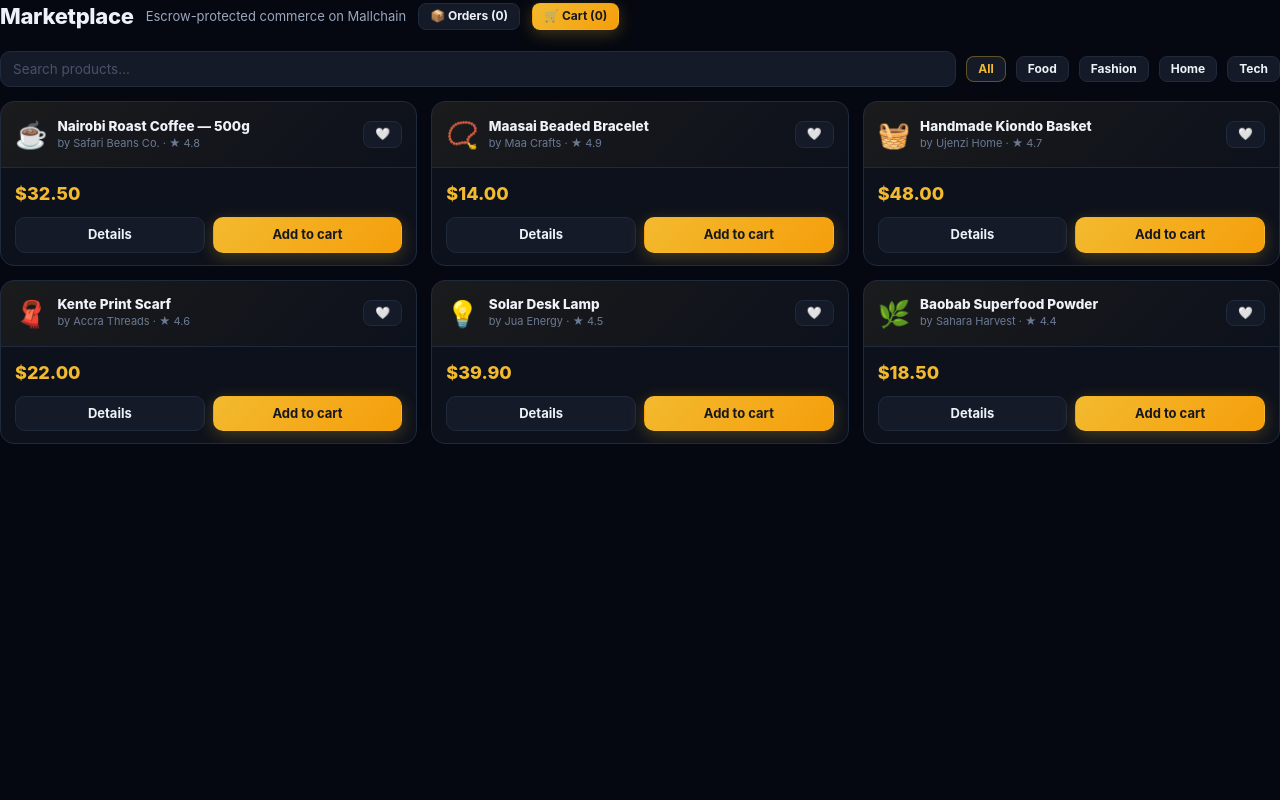
Test: Marketplace checkout › adding a product and checking out builds and broadcasts a real MsgCreateEscrow, not a local simulation
Step 1. Click the button "Add to cart" below "$32.50" → (308, 235), box [213,217,402,253]
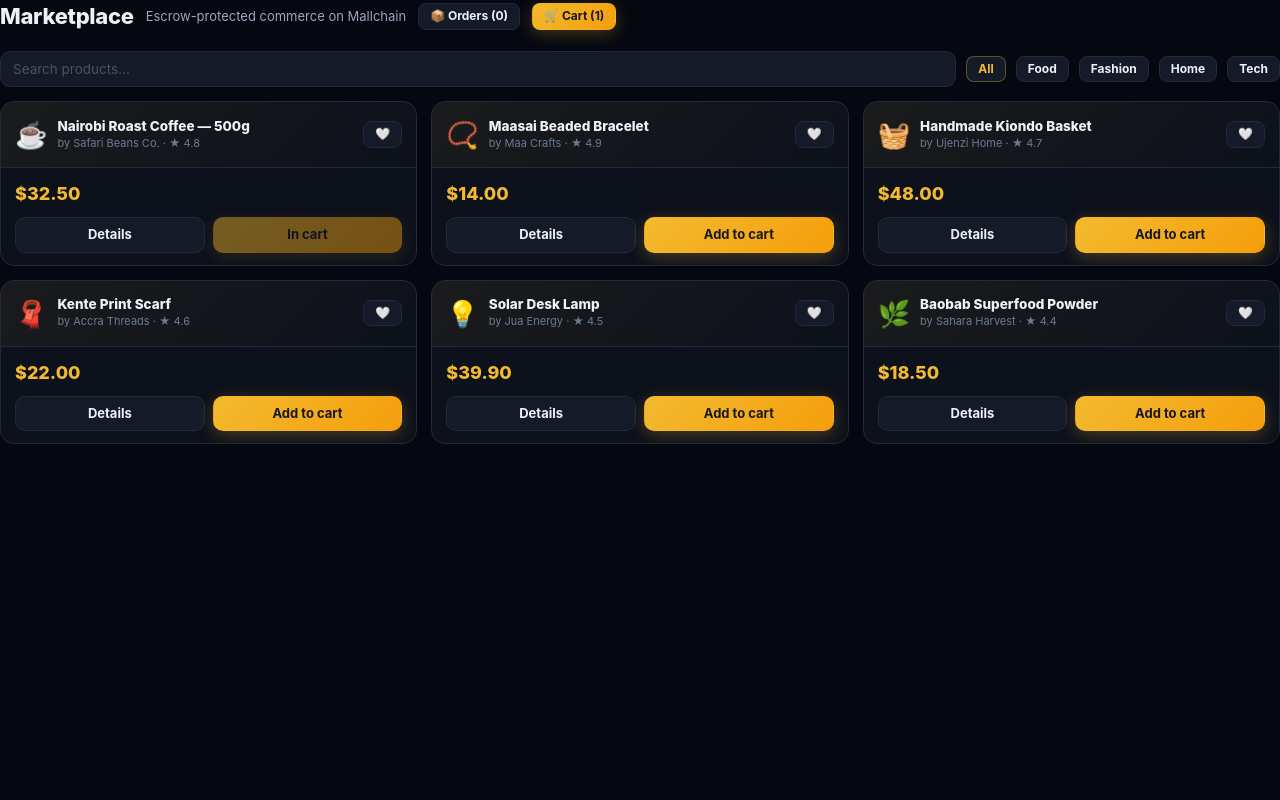
Step 2. Click the button "🛒 Cart (1)" → (574, 16), box [532,3,616,30]
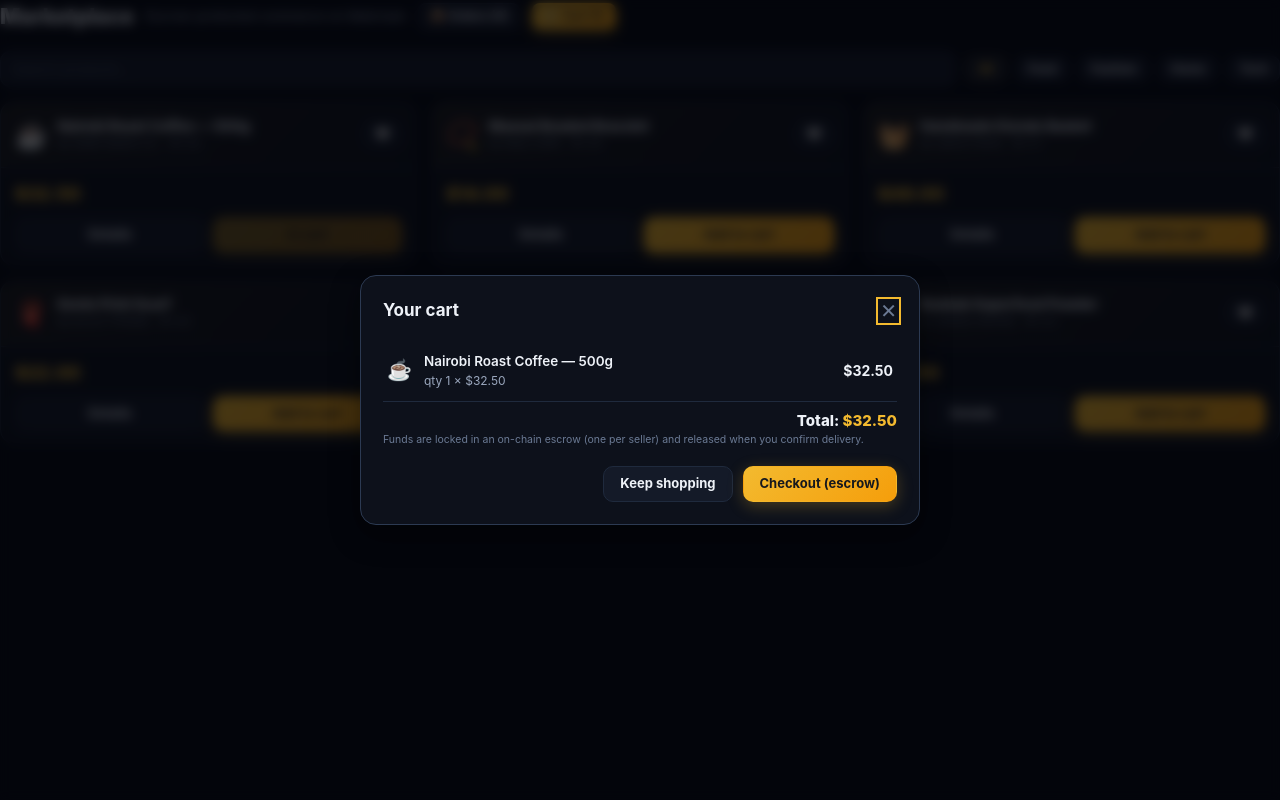
Step 3. Click the button "Checkout (escrow)" → (820, 484), box [742,466,897,502]
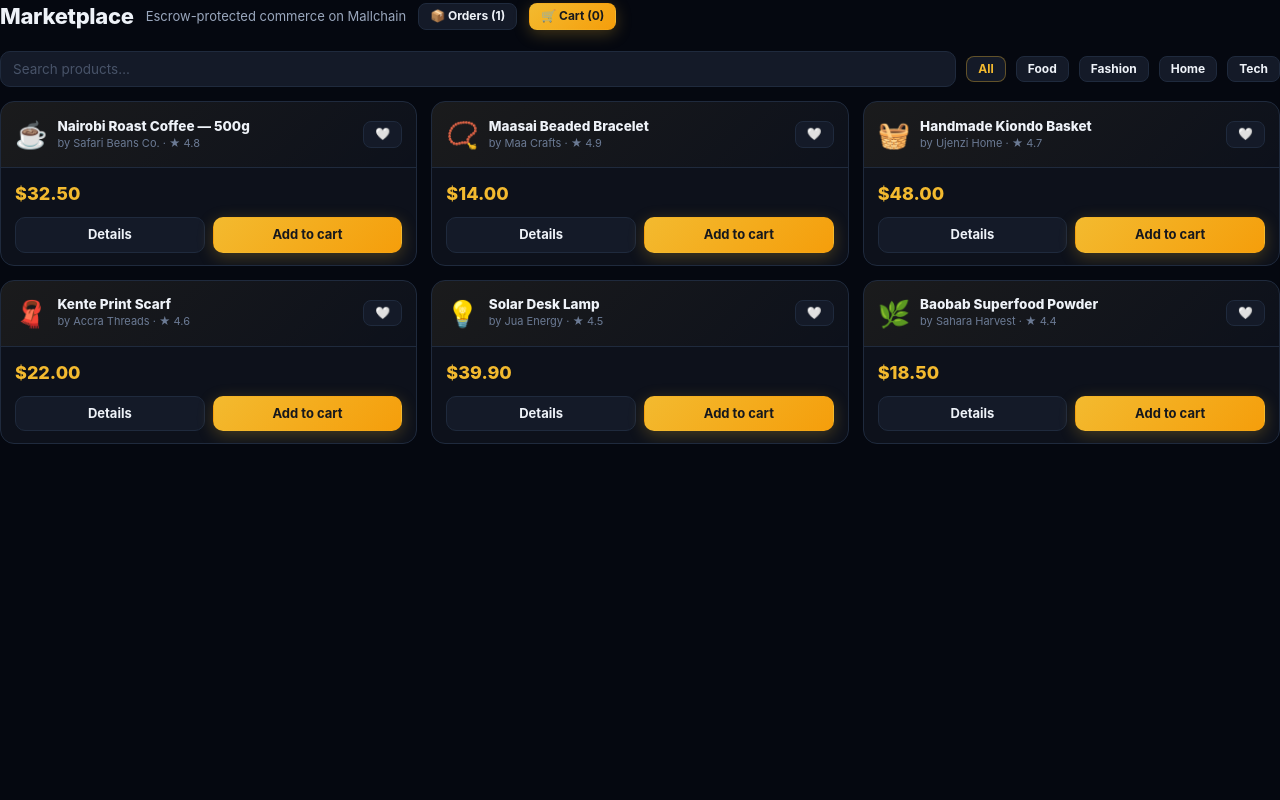
Expected: the text "Nairobi Roast Coffee — 500g" is shown, [57,118,250,135]
Step 4. Click the button "📦 Orders (1)" → (468, 16), box [418,3,517,30]
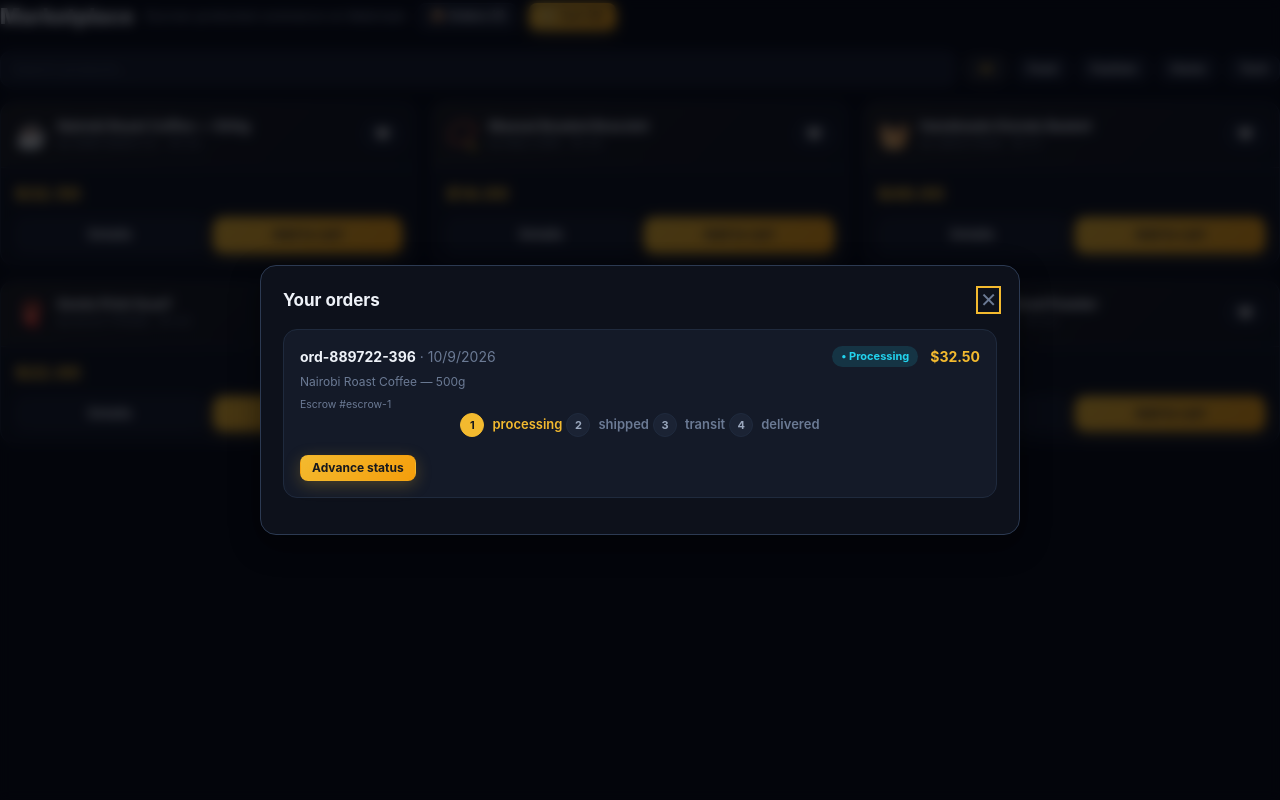
Now the text "Escrow #escrow-1" is shown, box [300,398,391,411]
